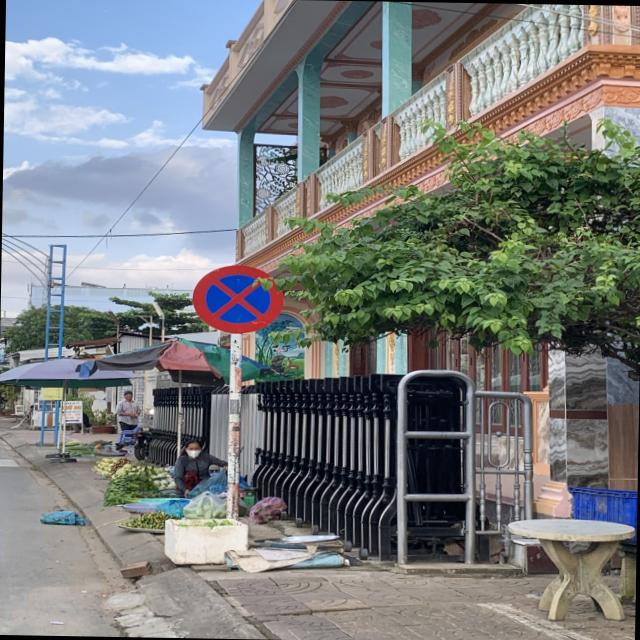Cam_Dung_Va_Dau_Xe: (194, 264, 283, 334)
